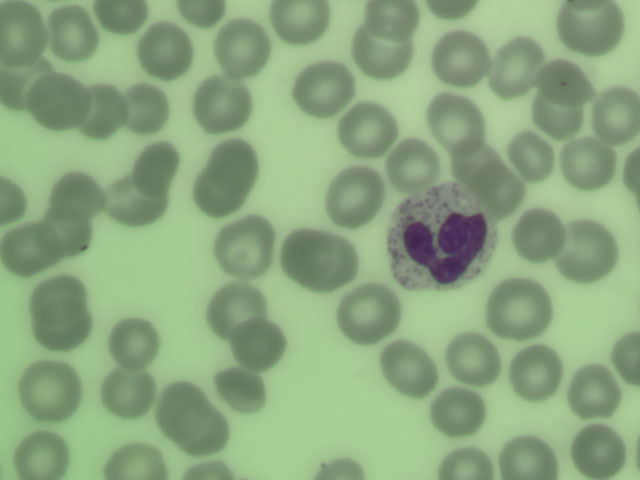RBC: (290, 234, 347, 286), (343, 103, 394, 155), (158, 379, 209, 431), (100, 366, 151, 418), (108, 313, 159, 365), (15, 428, 66, 480), (27, 364, 78, 416), (34, 302, 85, 354), (31, 272, 82, 324), (2, 224, 53, 276), (40, 206, 91, 258), (49, 167, 100, 219), (109, 175, 160, 227), (131, 140, 182, 192), (209, 136, 260, 188), (197, 80, 248, 132), (217, 19, 268, 71), (139, 24, 190, 76), (122, 82, 173, 134), (78, 83, 129, 135), (33, 73, 84, 125), (47, 6, 98, 58), (354, 25, 405, 77), (344, 286, 395, 338), (220, 219, 271, 271), (210, 286, 261, 338), (232, 319, 283, 371), (217, 365, 268, 417), (179, 406, 230, 458), (512, 348, 563, 400), (568, 363, 619, 415), (571, 425, 622, 477), (434, 389, 485, 441), (385, 339, 436, 391), (447, 329, 498, 381), (496, 280, 547, 332), (538, 55, 589, 107), (492, 43, 543, 95), (435, 32, 486, 84), (329, 170, 380, 222), (514, 211, 565, 263), (560, 226, 611, 278), (294, 59, 345, 111), (430, 95, 481, 147), (565, 138, 616, 190), (589, 89, 640, 141), (533, 85, 584, 137), (389, 139, 440, 191), (477, 157, 528, 209), (566, 1, 617, 52), (1, 58, 50, 110), (1, 6, 46, 62), (274, 1, 327, 45), (103, 444, 166, 480), (192, 173, 243, 217), (498, 440, 554, 479), (362, 1, 424, 34), (308, 445, 367, 479), (513, 132, 555, 176), (613, 329, 640, 389), (95, 1, 143, 34), (441, 451, 497, 479), (1, 174, 30, 224), (183, 456, 244, 478), (177, 1, 224, 24)
WBC: (389, 183, 494, 291)
